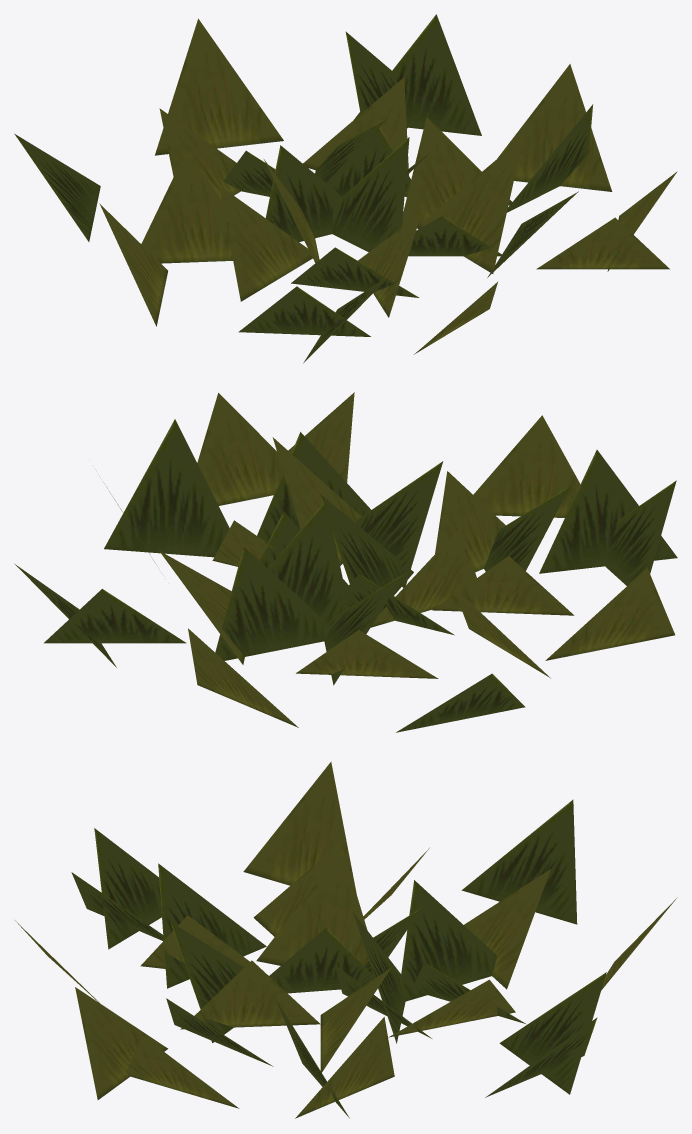
Rendered from dec_Ground_Grass_03_68947.glb.
3 renders of one model, top to bottom at view 1: azimuth 30°, elevation 25°; view 2: azimuth 150°, elevation 25°; view 3: azimuth 270°, elevation 25°, orthographic. The views are drawn at different scales.
Visible parts, largest first — view 1: Ground_Grass_03_mesh; view 2: Ground_Grass_03_mesh; view 3: Ground_Grass_03_mesh.
Part boxes in pixels (box(x1,y1,x2,y2)): Ground_Grass_03_mesh: box(14, 14, 677, 363); Ground_Grass_03_mesh: box(14, 392, 677, 732); Ground_Grass_03_mesh: box(15, 761, 677, 1118).
Bounding box in the file's own units: 1.57 × 0.3079 × 1.72.
1 material, 1 textured.
